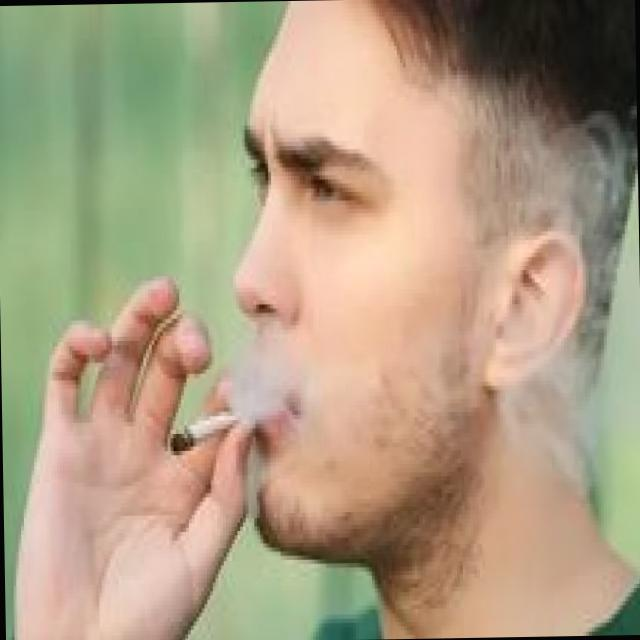cigarette: (166, 390, 258, 460)
